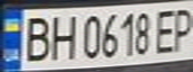0: (78, 11, 103, 60)
1: (118, 9, 139, 57)
6: (100, 10, 121, 58)
8: (133, 8, 157, 56)
B: (18, 12, 54, 62)
E: (151, 6, 181, 54)
H: (45, 11, 78, 61)
P: (169, 3, 193, 53)
